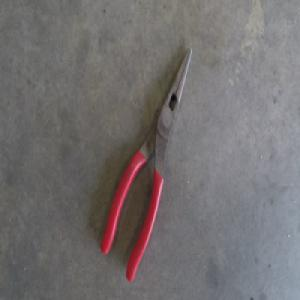Pliers: (102, 43, 192, 277)
